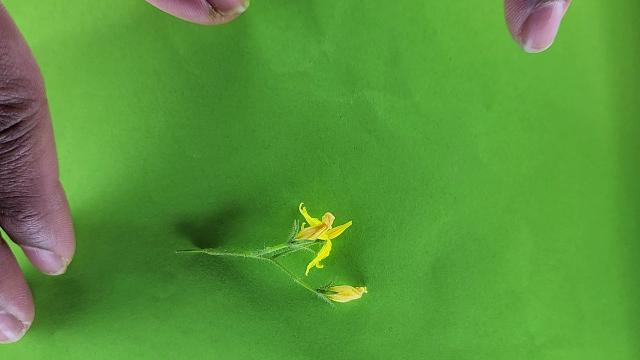Anthesis: (292, 203, 355, 278), (313, 275, 370, 303)
